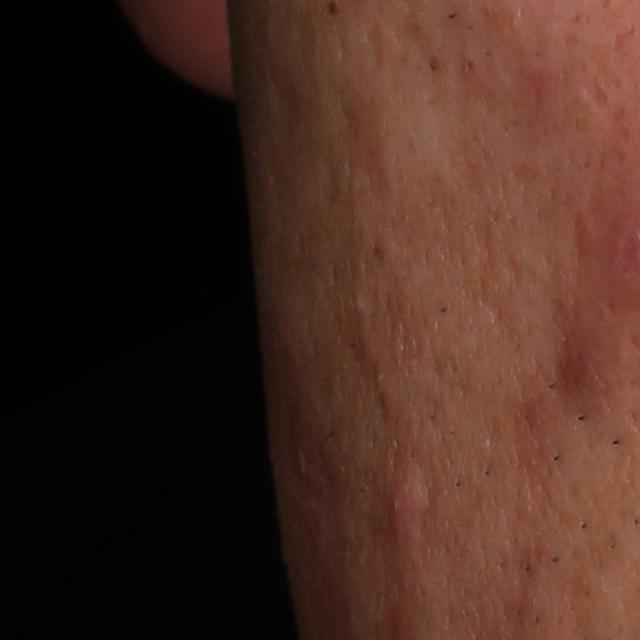comedo: (461, 55, 479, 76)
papule: (385, 466, 428, 543)
